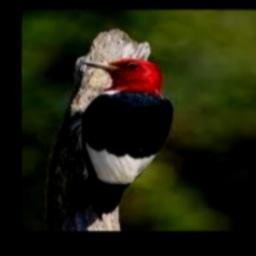Woodpecker: (67, 59, 177, 219)
